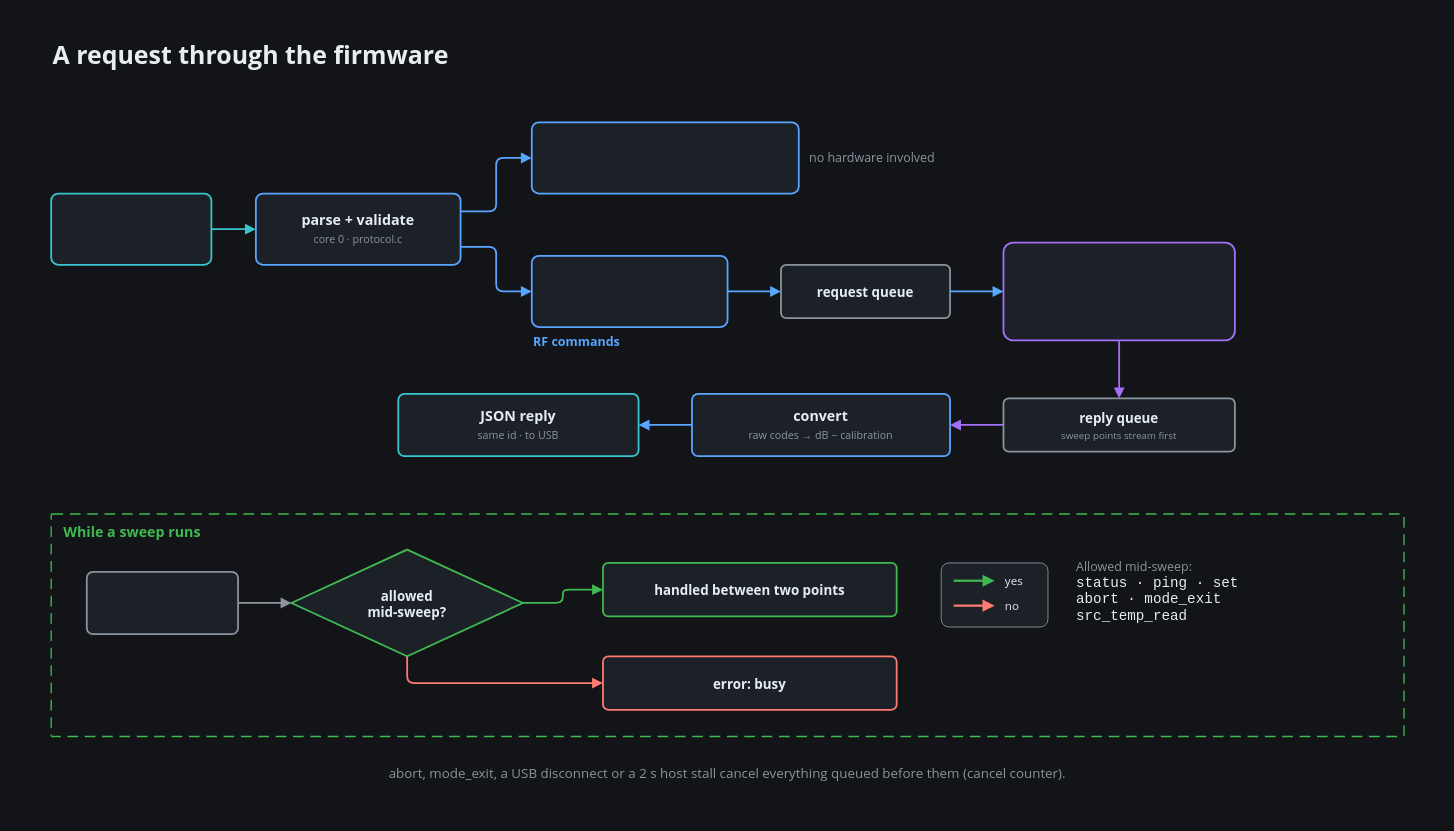
This 1454x831 diagram has some shape labels left out. The centre of each missing label's shape, as x and y in pixels:
"core 1 mode check → rf_app_* runs the hardware" goes at (x=1118, y=291).
"JSON line from USB" goes at (x=131, y=228).
"pending table 8 slots · id → request" goes at (x=629, y=291).
"reply at once EEPROM commands · ping · errors" goes at (x=664, y=157).
"request" goes at (x=162, y=602).
